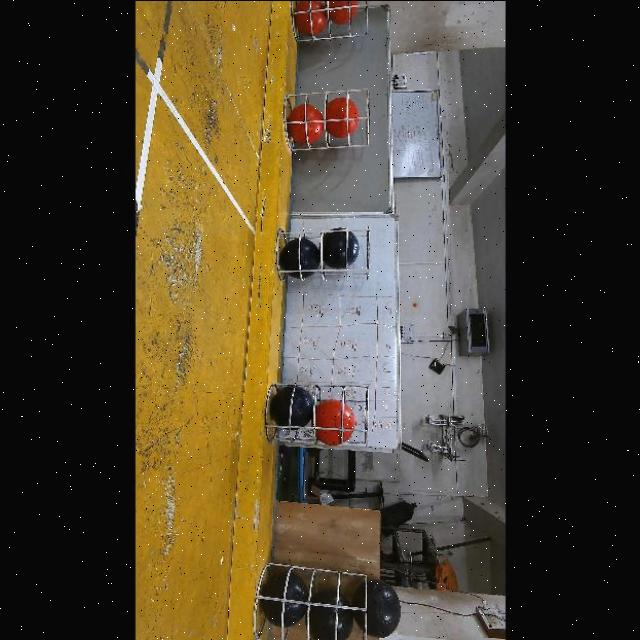P: (353, 578, 402, 638), (261, 568, 308, 627), (310, 589, 356, 640), (271, 385, 315, 429), (281, 237, 321, 279), (323, 227, 360, 268)
R: (316, 398, 357, 445), (288, 102, 325, 144), (326, 96, 361, 137), (294, 0, 329, 35), (329, 0, 360, 24)
S: (251, 560, 375, 640), (270, 383, 374, 451), (273, 224, 375, 282), (282, 85, 368, 152), (285, 0, 377, 44)
